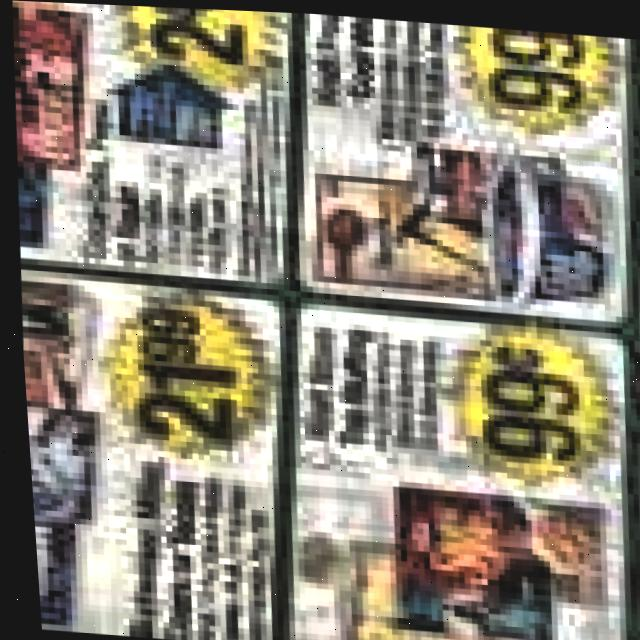paper: (11, 0, 640, 640)
